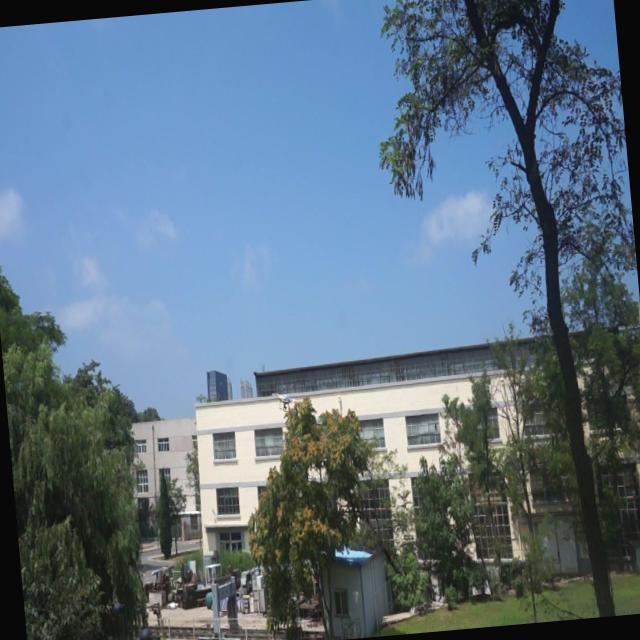drone: (268, 390, 300, 418)
